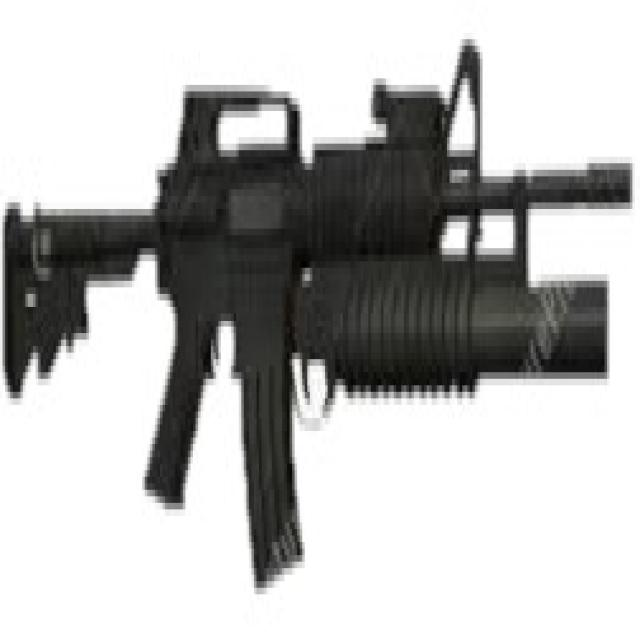rifle: (1, 23, 633, 610)
